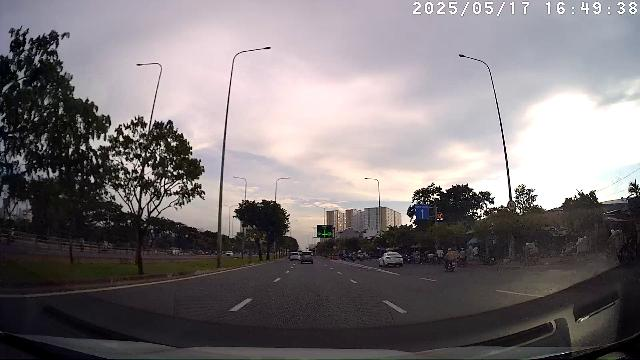127-toc-do-toi-da-60: (507, 200, 517, 211)
